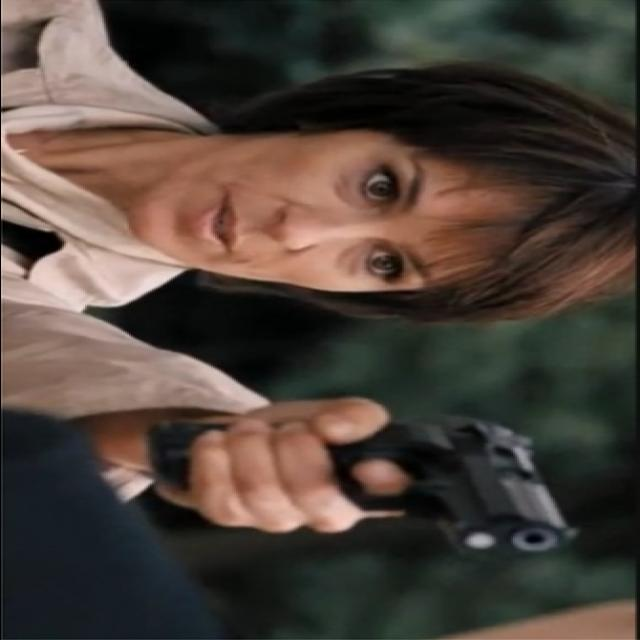weapons: (121, 401, 573, 571)
